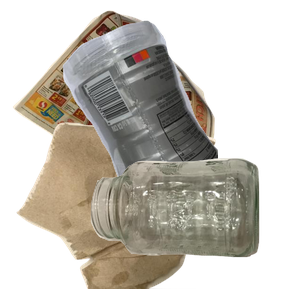glass: (88, 156, 300, 300)
paper: (10, 10, 217, 189)
plastic: (60, 18, 300, 198)
trash: (14, 120, 222, 300)
